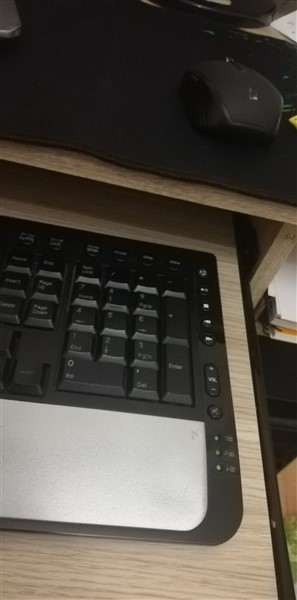klavye: (1, 214, 246, 547), (179, 51, 285, 148)
